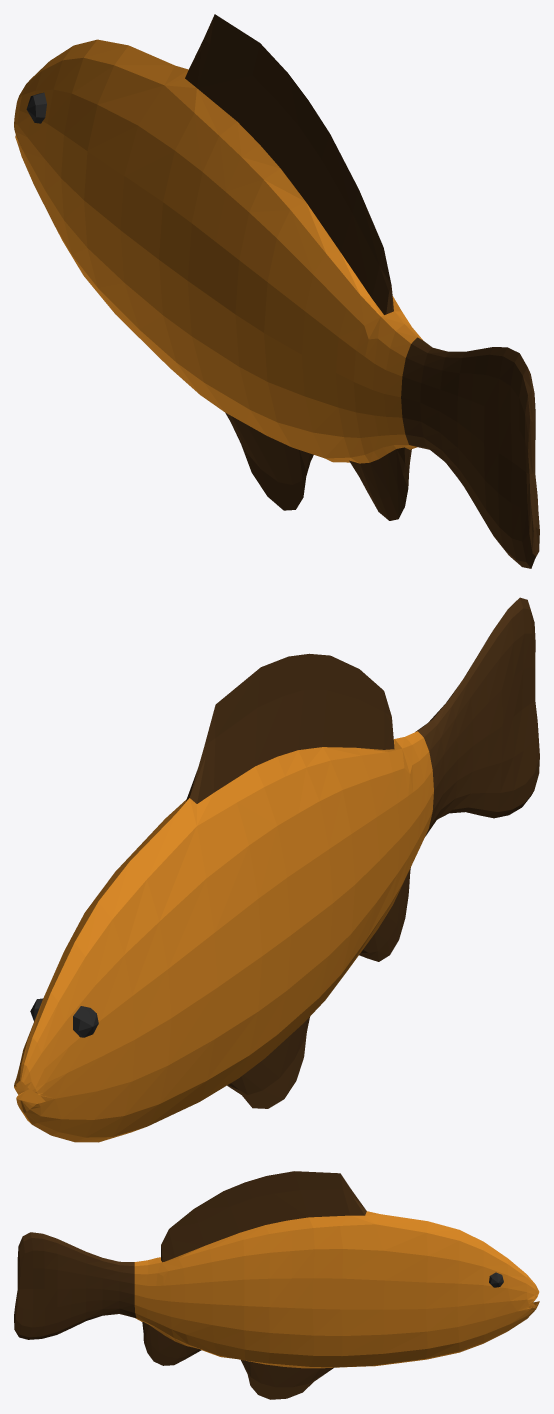
Rendered from Fishy.FBX.
3 renders of one model, top to bottom at view 1: azimuth 30°, elevation 25°; view 2: azimuth 150°, elevation 25°; view 3: azimuth 270°, elevation 25°, orthographic. The views are drawn at different scales.
Visible parts, largest first — view 1: fish; view 2: fish, L_eye; view 3: fish.
Part boxes in pixels (x1,y1,x2,y2): fish: (14, 14, 539, 568); fish: (14, 597, 539, 1142); L_eye: (73, 1006, 98, 1037); fish: (14, 1171, 539, 1399).
Bounding box in the file's own units: 0.289 × 1.26 × 2.64.
